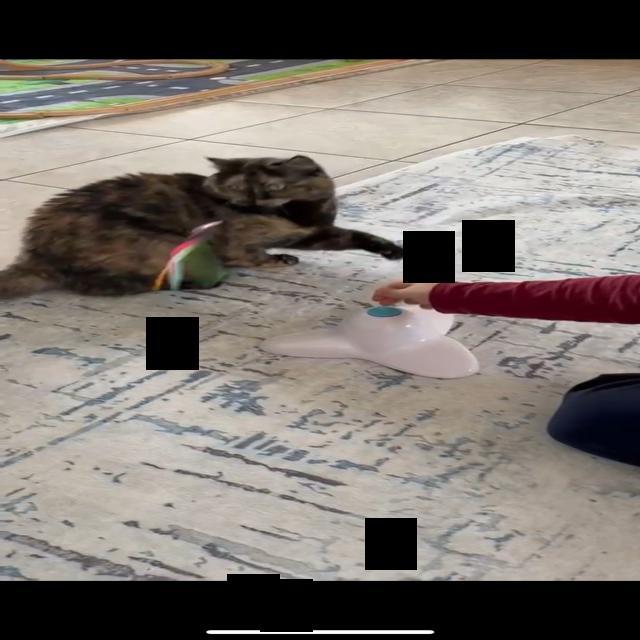authorized: (1, 154, 407, 299)
